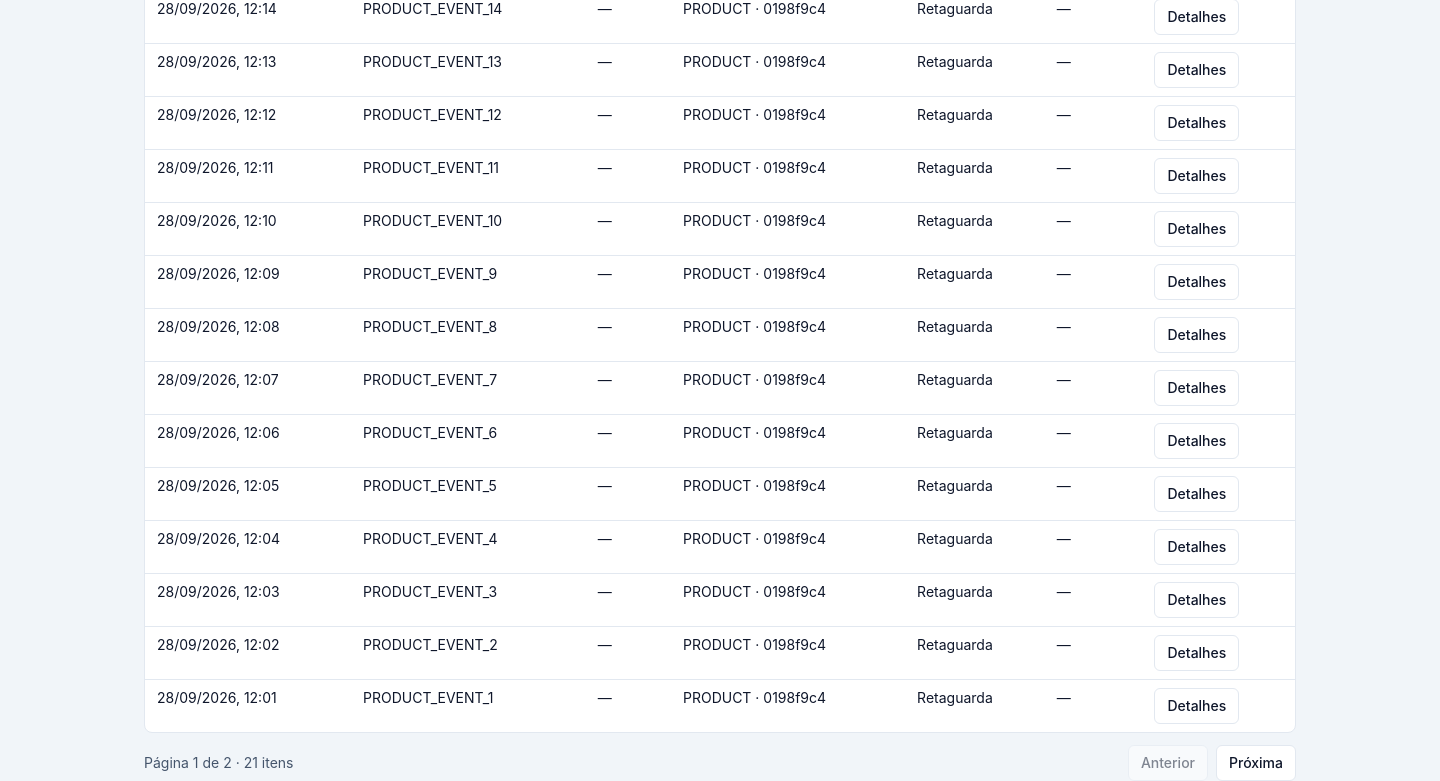
Test: AuditPage — detalhes e histórico (1211b) › ver histórico fixa o par entidade nos filtros e volta à primeira página
(page scrolled)
Step 1. Click the button with aria-label "Próxima página" → click(1256, 763), box 1216,745 -> 1296,780
(page scrolled)
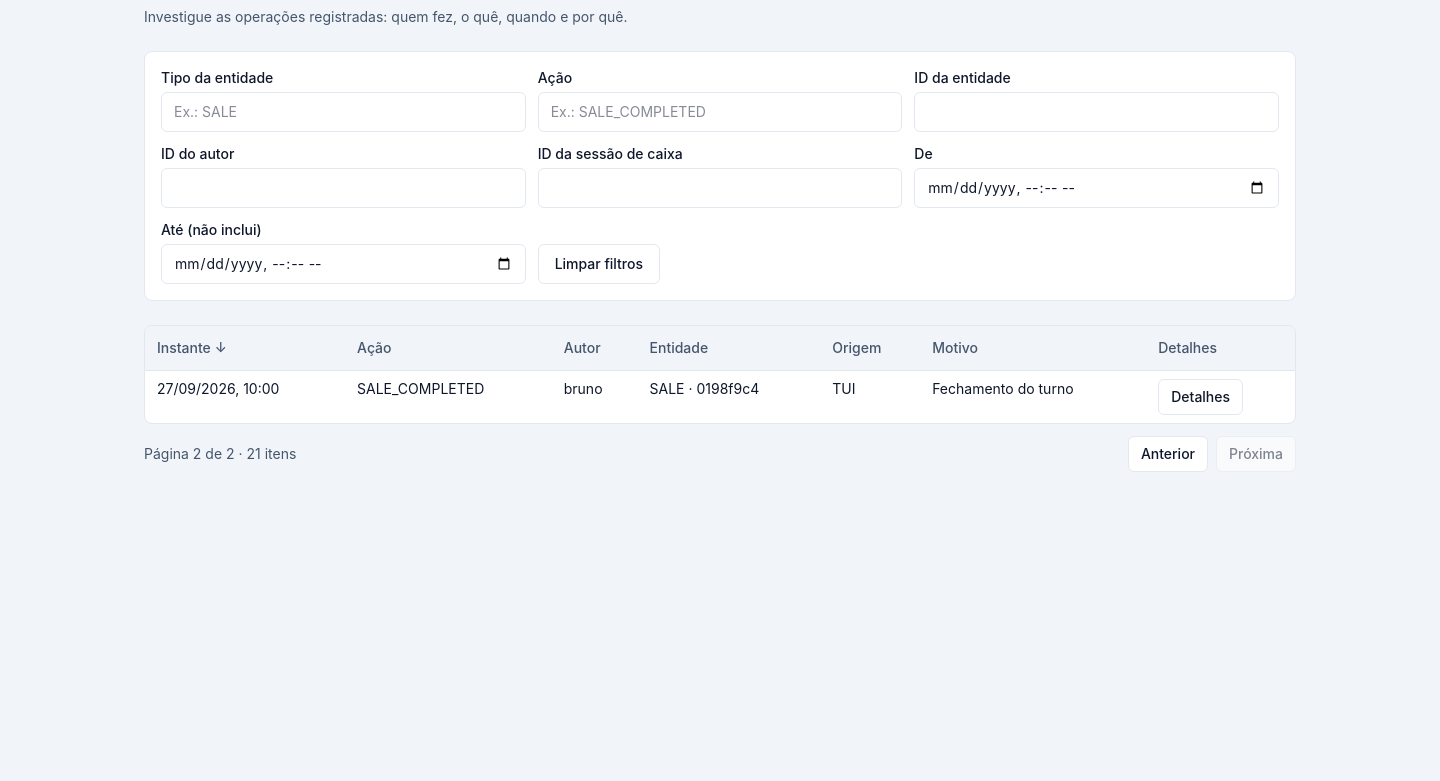
Step 2. Click the button with aria-label "Detalhes de SALE_COMPLETED" → click(1201, 397), box 1158,379 -> 1243,415
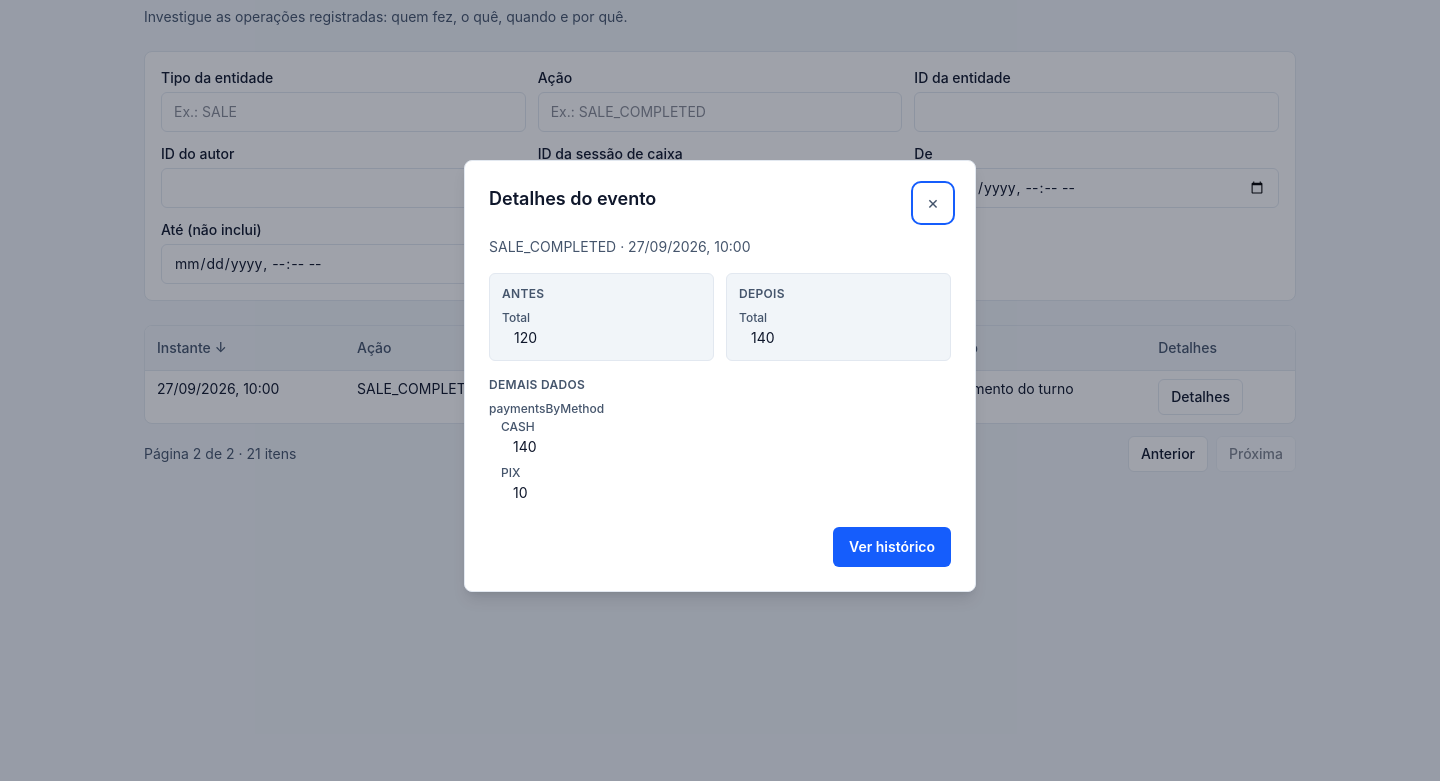
Step 3. Click the button "Ver histórico" → click(892, 547), box 833,527 -> 951,567
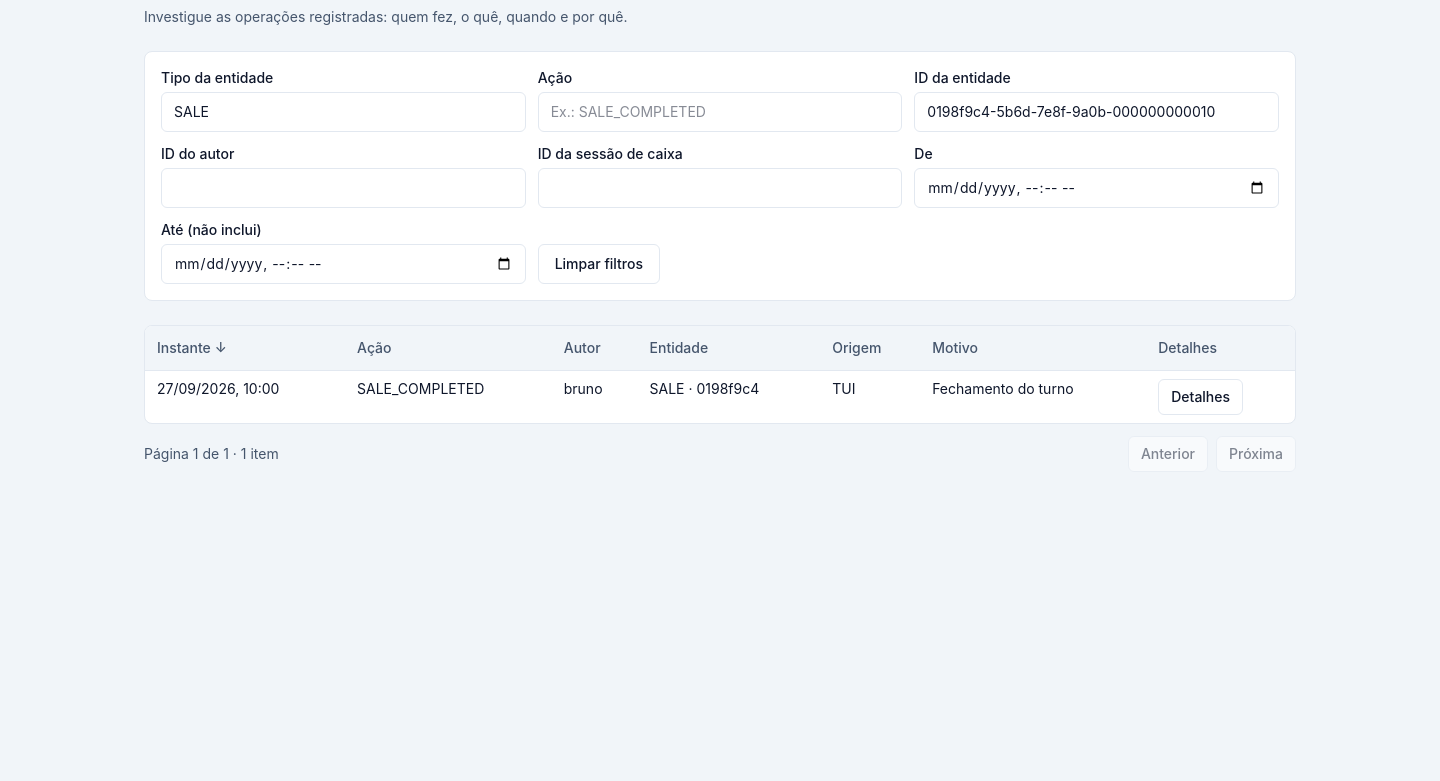
expect the field labelled "Tipo da entidade" holds "SALE": met, box 161,92 -> 526,132
expect the field labelled "ID da entidade" holds "0198f9c4-5b6d-7e8f-9a0b-000000000010": met, box 914,92 -> 1279,132
expect the dialog is gone: met
